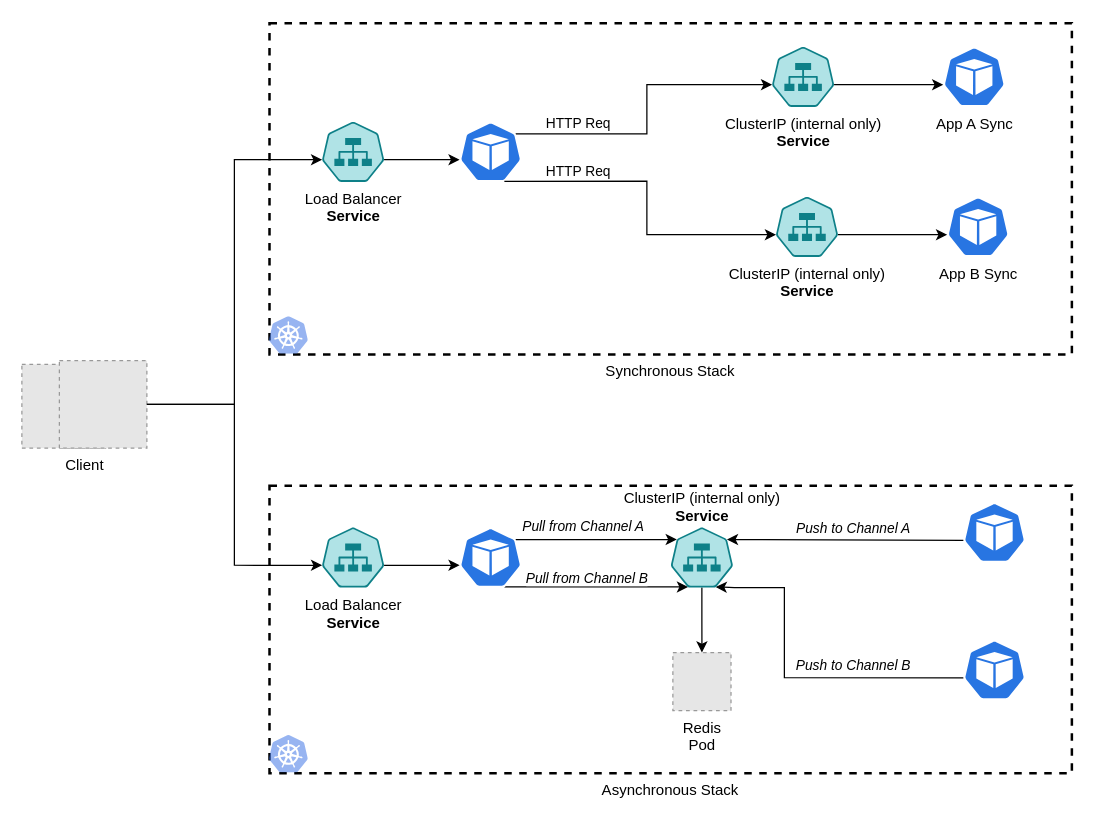
This 1095x820 diagram has some shape labels left out. Grey dashed boxes stand in for pictures. The shapes that lost their labels are listed below. From the top down, each one's centre as x and y in pixels, then its label:
At [490,151]: "App G Sync Pods".
At [994,531]: "App A Async".
At [490,557]: "App G Async Pods".
At [994,669]: "App B Async".
